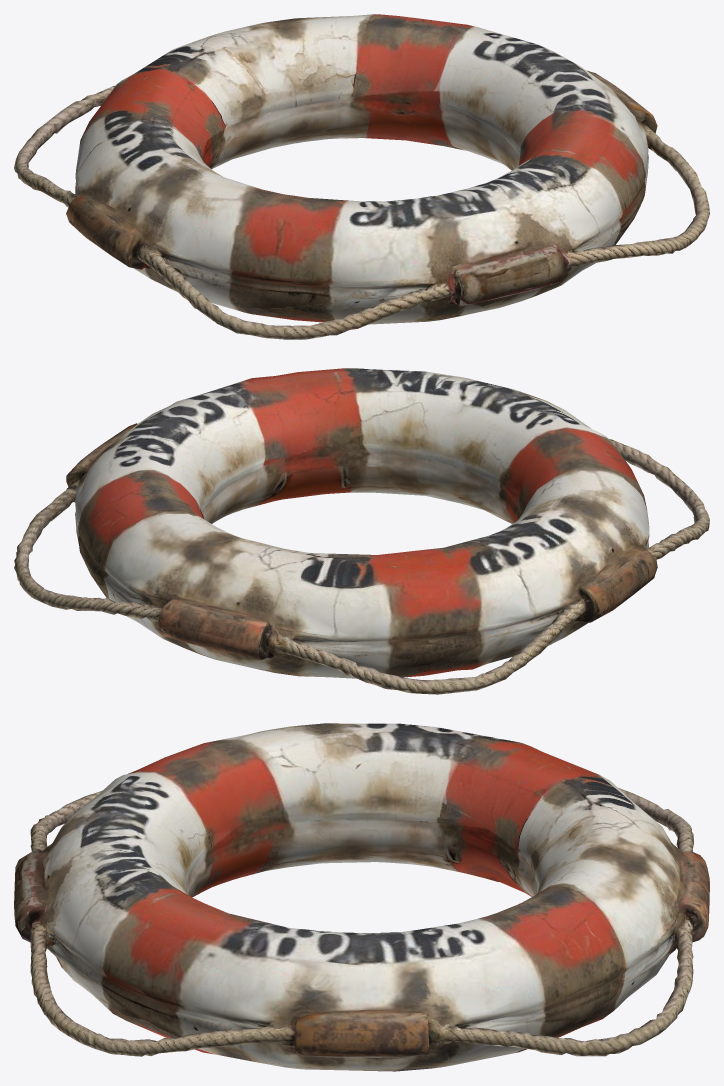
Rendered from sign.glb.
3 views of the same model, one above another, from view 1: azimuth 30°, elevation 25°; view 2: azimuth 150°, elevation 25°; view 3: azimuth 270°, elevation 25° (orthographic). The views are drawn at different scales.
Bounding box in the file's own units: 1.91 × 0.3874 × 1.91.
1 material, 1 textured.
